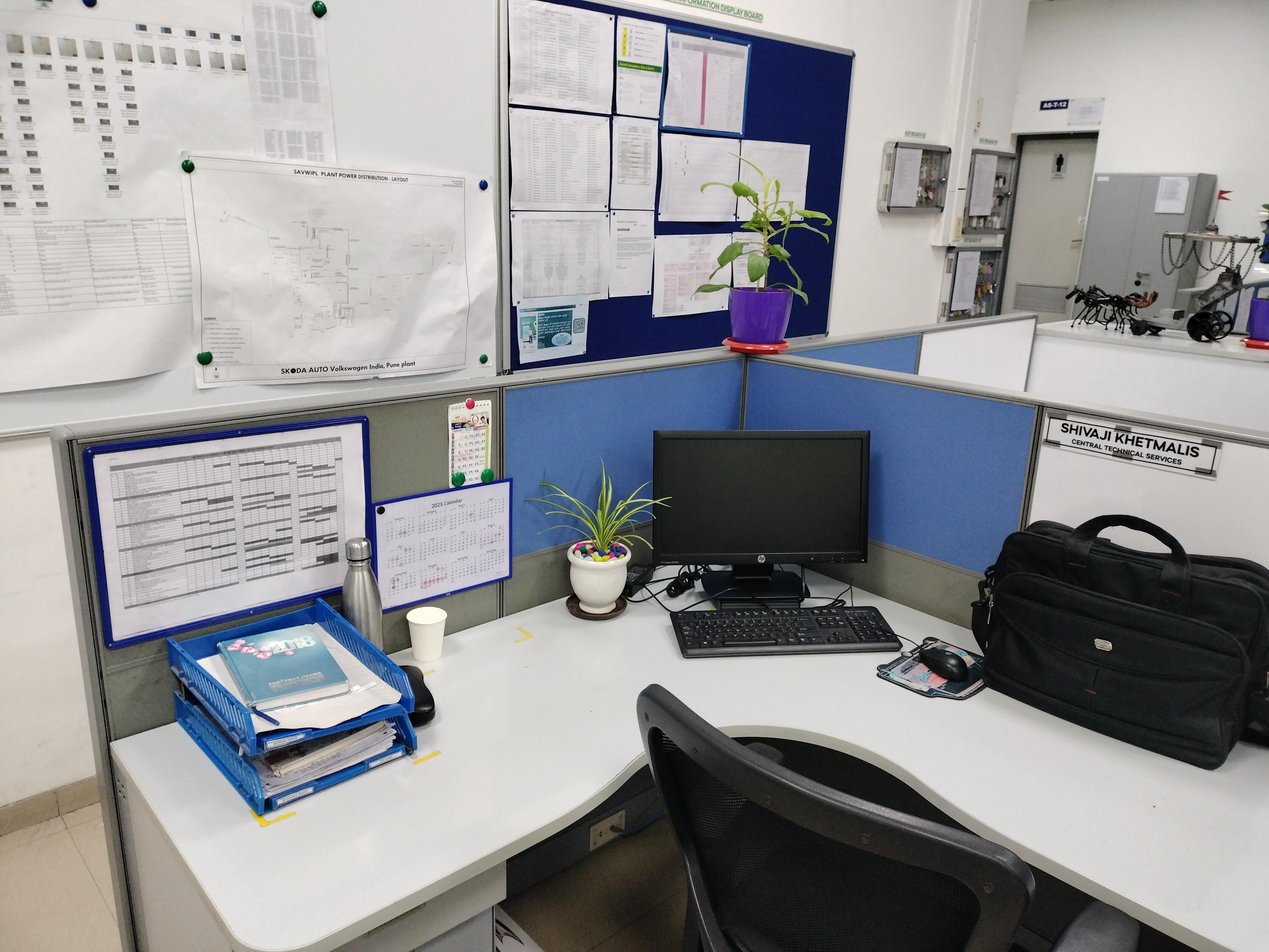bag: (969, 512, 1269, 776)
book: (216, 622, 351, 716)
bottle: (341, 535, 385, 652)
calender: (370, 475, 514, 613), (447, 397, 492, 489)
desktop: (651, 428, 873, 601)
filetray: (165, 596, 420, 819)
keyboard: (669, 605, 904, 661)
mouse: (917, 645, 972, 683)
mug: (407, 605, 449, 665)
nameplate: (1037, 406, 1227, 485)
page: (79, 413, 373, 651)
vase: (566, 539, 630, 622)
